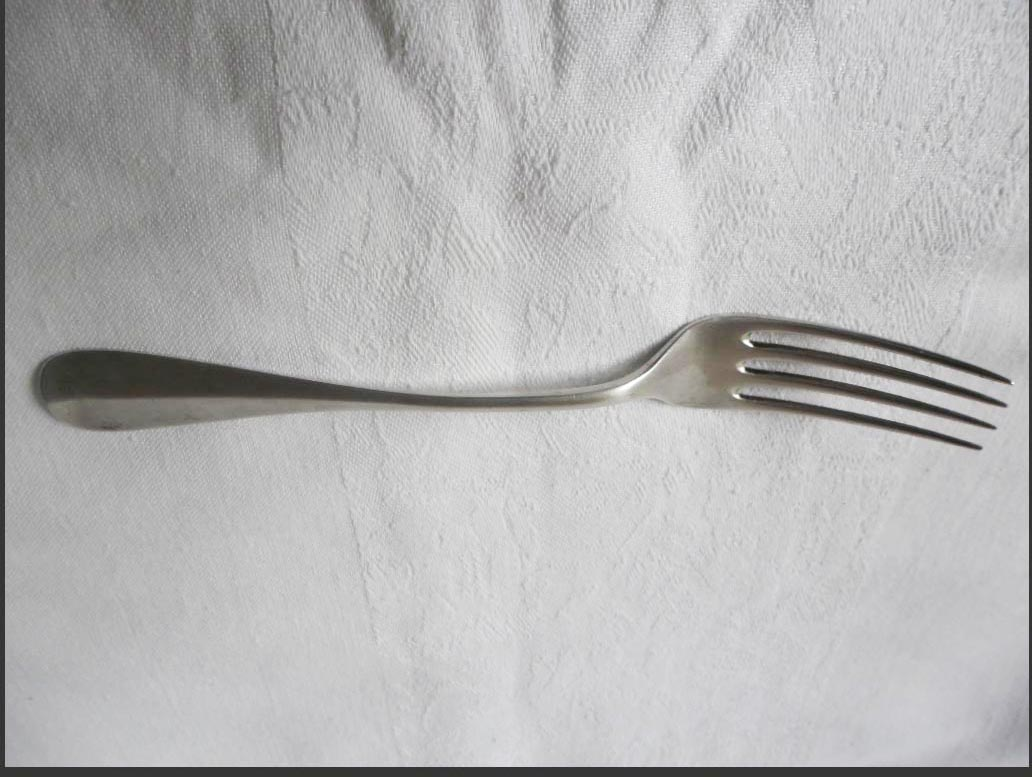Widelec: (640, 291, 1016, 462)
